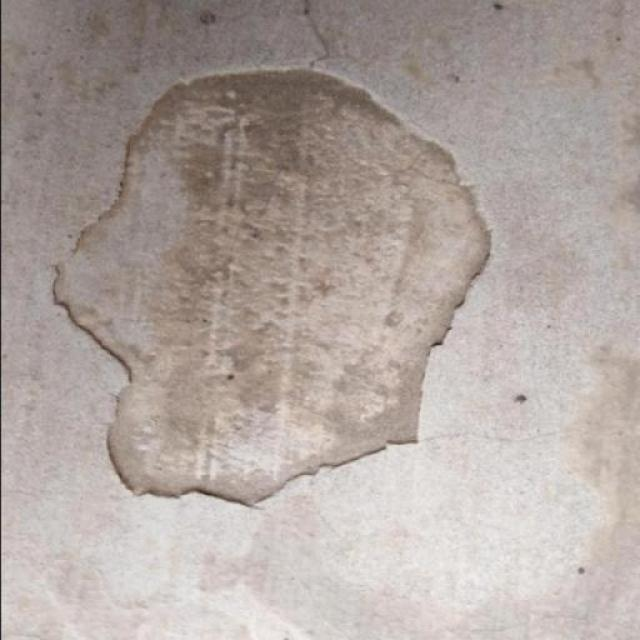D10: (51, 66, 492, 508)
